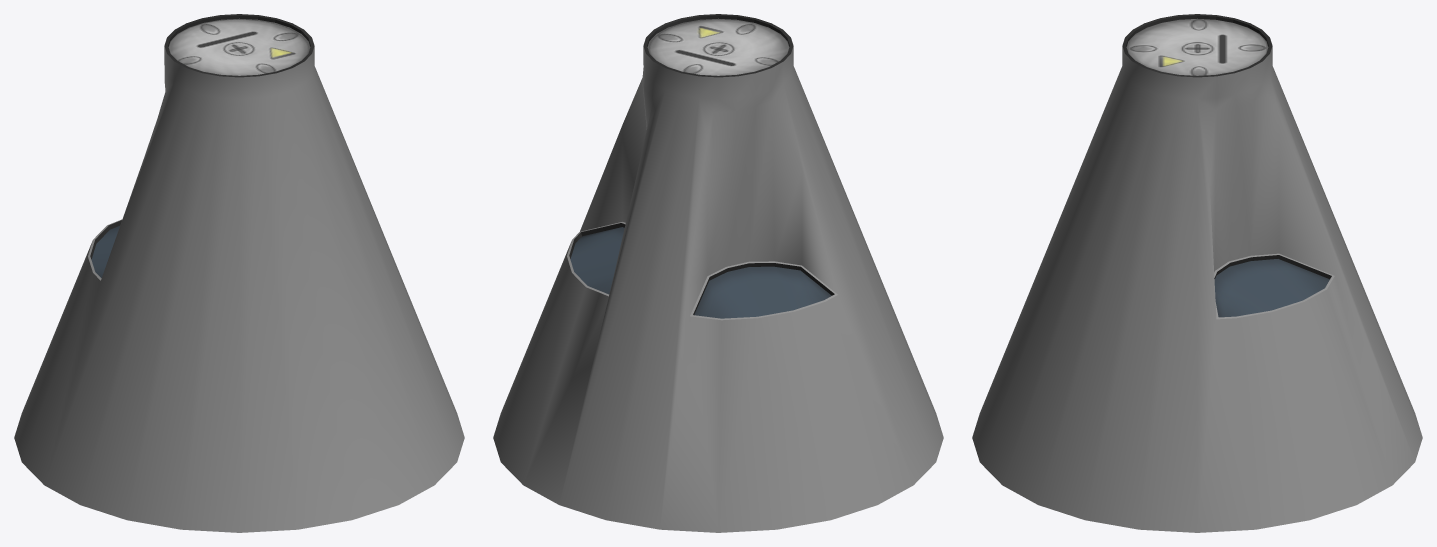
File: Brumby.FBX
The picture shows the model from 3 angles, left to right: view 1: azimuth 30°, elevation 25°; view 2: azimuth 150°, elevation 25°; view 3: azimuth 270°, elevation 25°; orthographic projection.
Visible parts, largest first — view 1: MainBody, Windows; view 2: MainBody, Windows; view 3: MainBody, Windows.
Part boxes in pixels (x1,y1,x2,y2): MainBody: (14, 14, 464, 532); Windows: (91, 226, 119, 277); MainBody: (493, 14, 943, 532); Windows: (570, 227, 831, 318); MainBody: (972, 14, 1422, 532); Windows: (1214, 259, 1329, 317).
Size of the model in its own units: 1.87 by 1.8 by 1.87.
3 materials, 3 textured.
